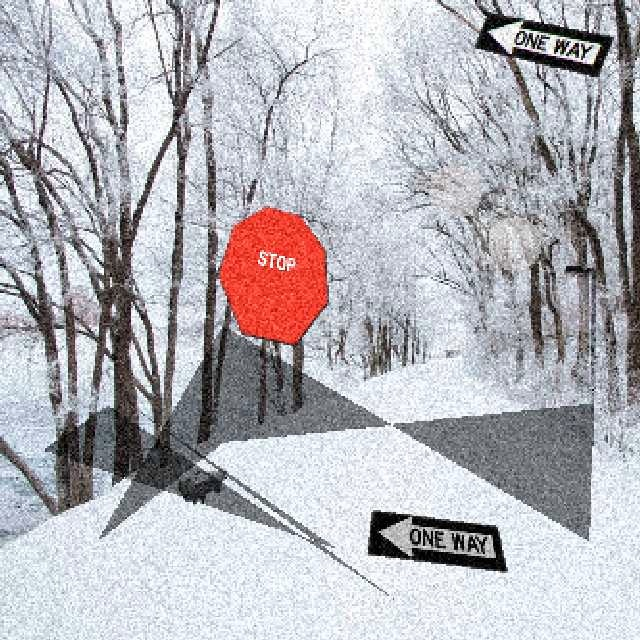ONE_WAY_ left: (472, 10, 613, 76), (365, 508, 506, 571)
STOP: (216, 204, 327, 345)
